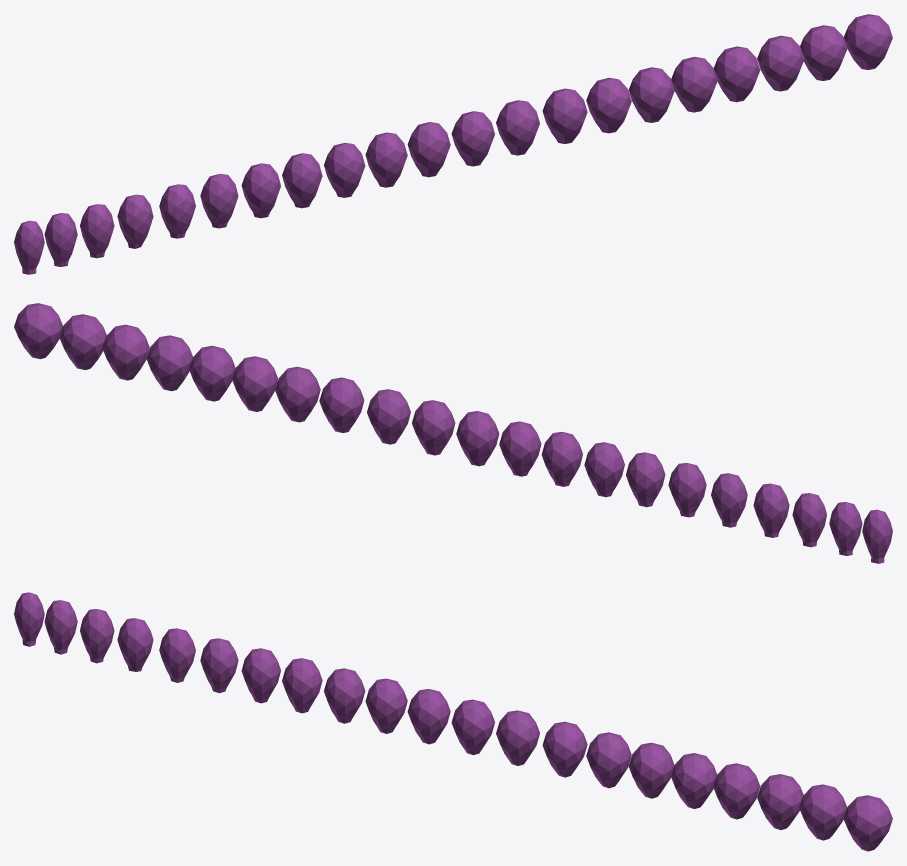
The model's file is SM_hotairballoon_progression_AC.fbx.
3 renders of one model, top to bottom at view 1: azimuth 30°, elevation 25°; view 2: azimuth 150°, elevation 25°; view 3: azimuth 330°, elevation 25°, orthographic.
Visible parts, largest first — view 1: hot_air_balloon, hot_air_balloon1, hot_air_balloon2, hot_air_balloon3, hot_air_balloon4, hot_air_balloon5, hot_air_balloon6, hot_air_balloon7, hot_air_balloon8, hot_air_balloon9, hot_air_balloon10, hot_air_balloon11 (+9 smaller); view 2: hot_air_balloon, hot_air_balloon1, hot_air_balloon2, hot_air_balloon3, hot_air_balloon4, hot_air_balloon5, hot_air_balloon6, hot_air_balloon7, hot_air_balloon8, hot_air_balloon9, hot_air_balloon10, hot_air_balloon11 (+9 smaller); view 3: hot_air_balloon, hot_air_balloon1, hot_air_balloon3, hot_air_balloon2, hot_air_balloon4, hot_air_balloon5, hot_air_balloon6, hot_air_balloon7, hot_air_balloon8, hot_air_balloon9, hot_air_balloon10, hot_air_balloon11 (+9 smaller).
Boxes of the visible parts, left/top/right/bottom form: hot_air_balloon: left=843, top=14, right=892, bottom=69; hot_air_balloon1: left=800, top=25, right=847, bottom=80; hot_air_balloon2: left=757, top=35, right=804, bottom=91; hot_air_balloon3: left=714, top=46, right=760, bottom=102; hot_air_balloon4: left=671, top=56, right=717, bottom=112; hot_air_balloon5: left=628, top=67, right=674, bottom=122; hot_air_balloon6: left=586, top=77, right=631, bottom=133; hot_air_balloon7: left=542, top=88, right=587, bottom=143; hot_air_balloon8: left=496, top=100, right=539, bottom=155; hot_air_balloon9: left=451, top=111, right=494, bottom=166; hot_air_balloon10: left=407, top=122, right=450, bottom=177; hot_air_balloon11: left=365, top=132, right=407, bottom=187; hot_air_balloon: left=14, top=303, right=63, bottom=358; hot_air_balloon1: left=59, top=314, right=106, bottom=369; hot_air_balloon2: left=102, top=324, right=149, bottom=380; hot_air_balloon3: left=146, top=335, right=192, bottom=391; hot_air_balloon4: left=189, top=345, right=235, bottom=401; hot_air_balloon5: left=232, top=356, right=278, bottom=411; hot_air_balloon6: left=275, top=366, right=320, bottom=422; hot_air_balloon7: left=319, top=377, right=364, bottom=432; hot_air_balloon8: left=367, top=389, right=410, bottom=444; hot_air_balloon9: left=412, top=400, right=455, bottom=455; hot_air_balloon10: left=456, top=411, right=499, bottom=466; hot_air_balloon11: left=499, top=421, right=541, bottom=476; hot_air_balloon: left=843, top=795, right=892, bottom=851; hot_air_balloon1: left=799, top=784, right=847, bottom=840; hot_air_balloon3: left=713, top=763, right=760, bottom=819; hot_air_balloon2: left=757, top=774, right=803, bottom=830; hot_air_balloon4: left=671, top=753, right=717, bottom=808; hot_air_balloon5: left=628, top=742, right=674, bottom=798; hot_air_balloon6: left=586, top=732, right=631, bottom=788; hot_air_balloon7: left=542, top=721, right=587, bottom=777; hot_air_balloon8: left=496, top=710, right=539, bottom=765; hot_air_balloon9: left=451, top=699, right=494, bottom=755; hot_air_balloon10: left=407, top=689, right=450, bottom=744; hot_air_balloon11: left=365, top=678, right=407, bottom=733.
Bounding box in the file's own units: 1780 × 100 × 84.87.
